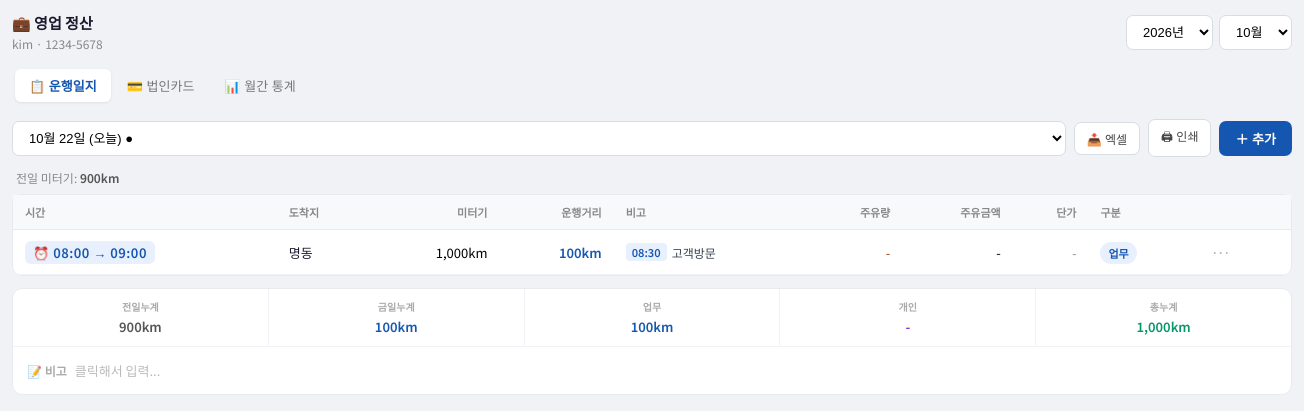
Test: 영업 정산 – 입력 가능 날짜 › 잠긴 지난 주 → 추가 버튼 없음, 조회만
The width and height of the screenshot is (1304, 411).
Select "10월 15일 🔒" in the 3rd dropdown at (539, 138), box [12, 120, 1066, 156]
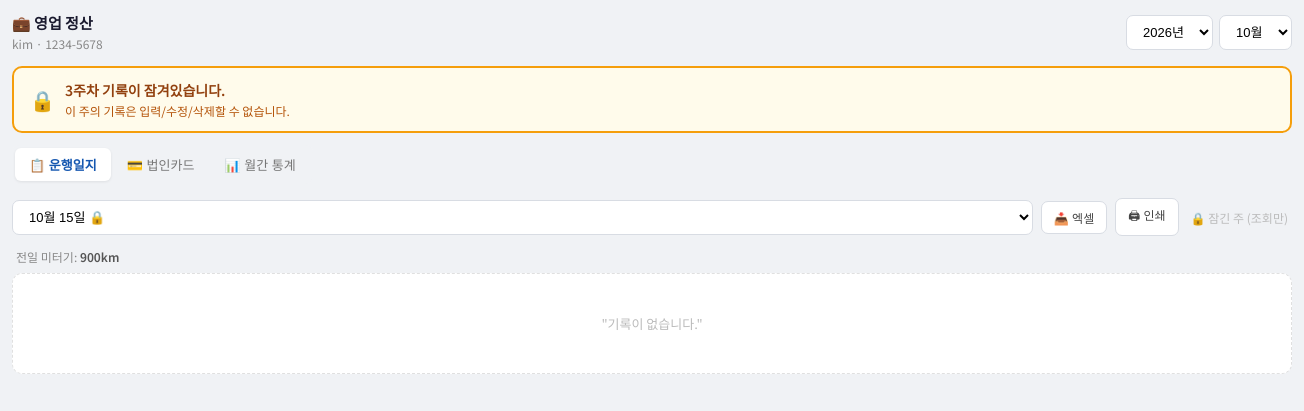
Check: the button "＋ 추가" is gone
Check: the text "🔒 잠긴 주 (조회만)" is shown, box [1187, 208, 1292, 226]
